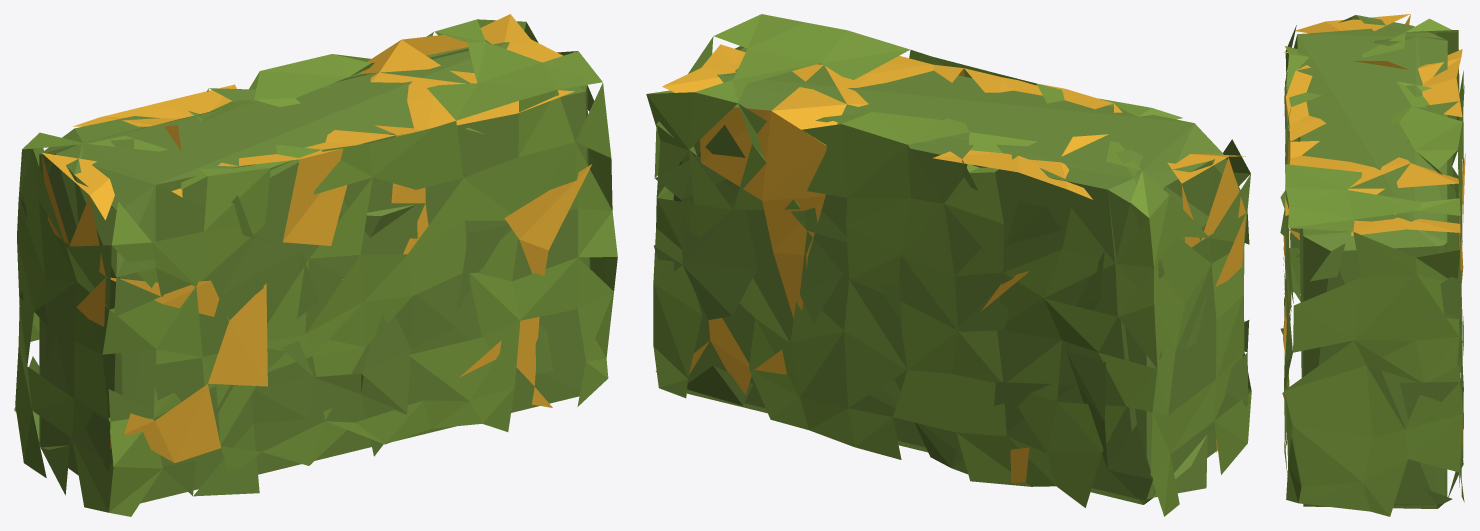
The model's file is prop.hedge.lod1.glb.
3 views of the same model, side by side, from view 1: azimuth 30°, elevation 25°; view 2: azimuth 150°, elevation 25°; view 3: azimuth 270°, elevation 25° (orthographic). The views are drawn at different scales.
Bounding box in the file's own units: 2.49 × 1.54 × 0.871.
